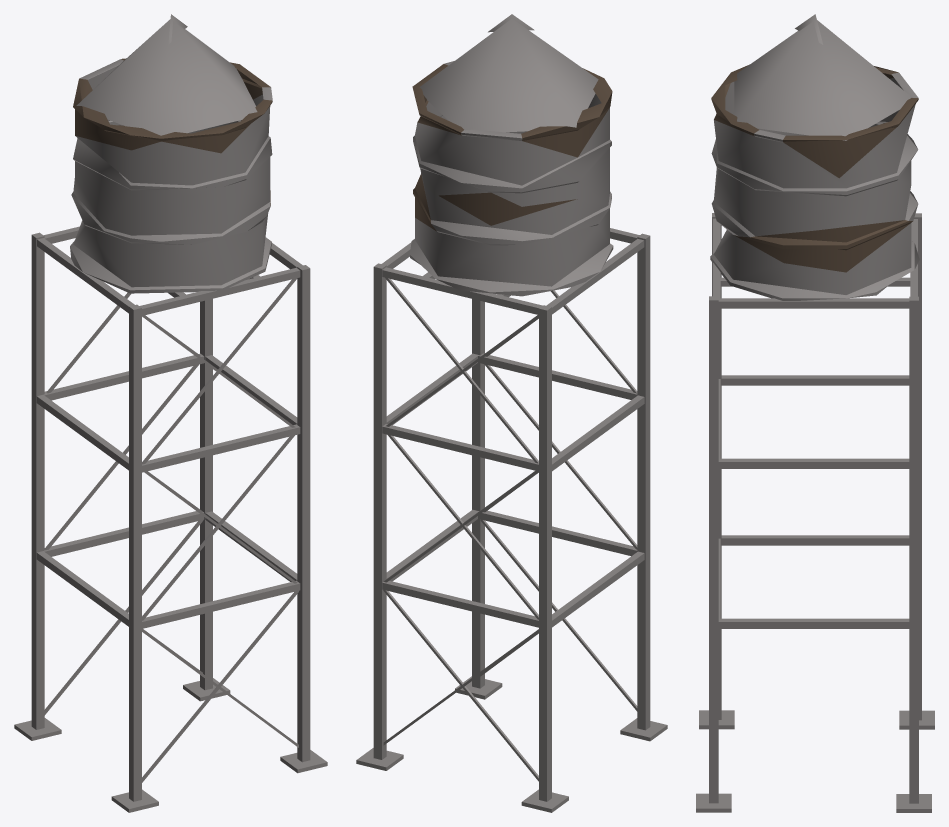
File: cc0-water-lod1.glb
3 views of the same model, side by side, from view 1: azimuth 30°, elevation 25°; view 2: azimuth 150°, elevation 25°; view 3: azimuth 270°, elevation 25° (orthographic). The views are drawn at different scales.
Parts seen in each view (by area): view 1: part_0; view 2: part_0; view 3: part_0.
Part boxes in pixels (x1,y1,x2,y2): part_0: [14, 14, 327, 812]; part_0: [356, 14, 667, 812]; part_0: [696, 14, 934, 812].
Size of the model in its own units: 2.65 by 9.38 by 2.71.
1 material, 1 textured.
